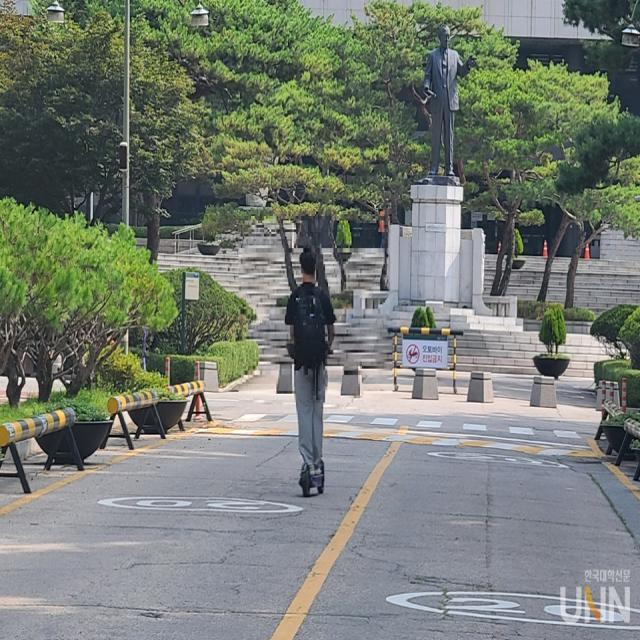non-helmet: (274, 238, 340, 503)
